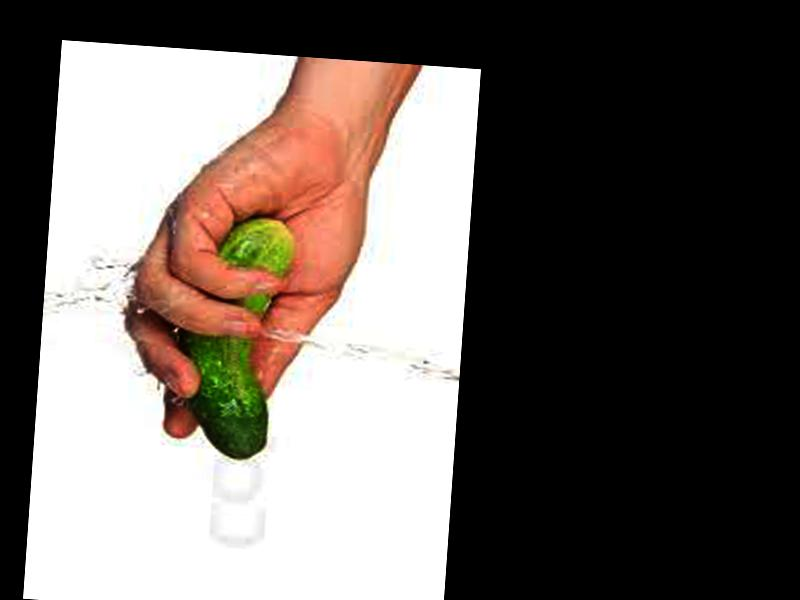Cucumber: (177, 214, 292, 462)
